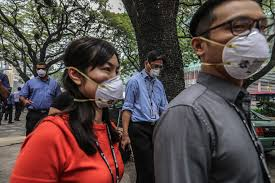n95: (220, 26, 272, 80), (92, 73, 128, 111), (147, 68, 162, 79), (35, 69, 48, 79)
